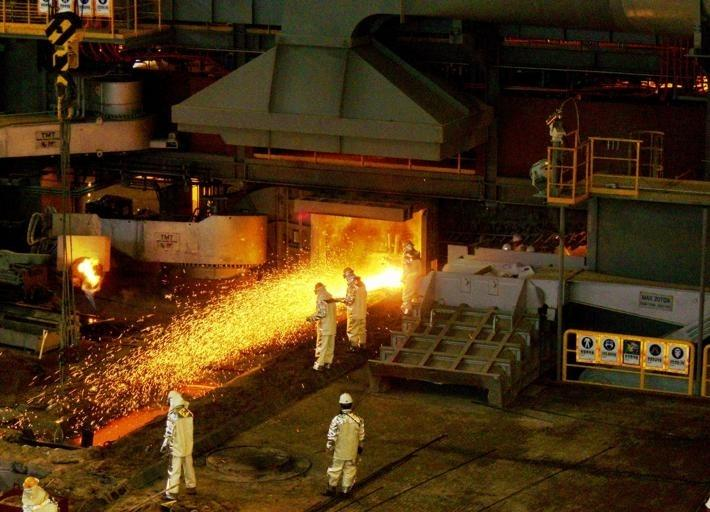capacete: (336, 393, 356, 406)
pessoa: (159, 391, 208, 507), (324, 384, 365, 505), (311, 278, 340, 371), (341, 267, 373, 350), (398, 234, 423, 320)
